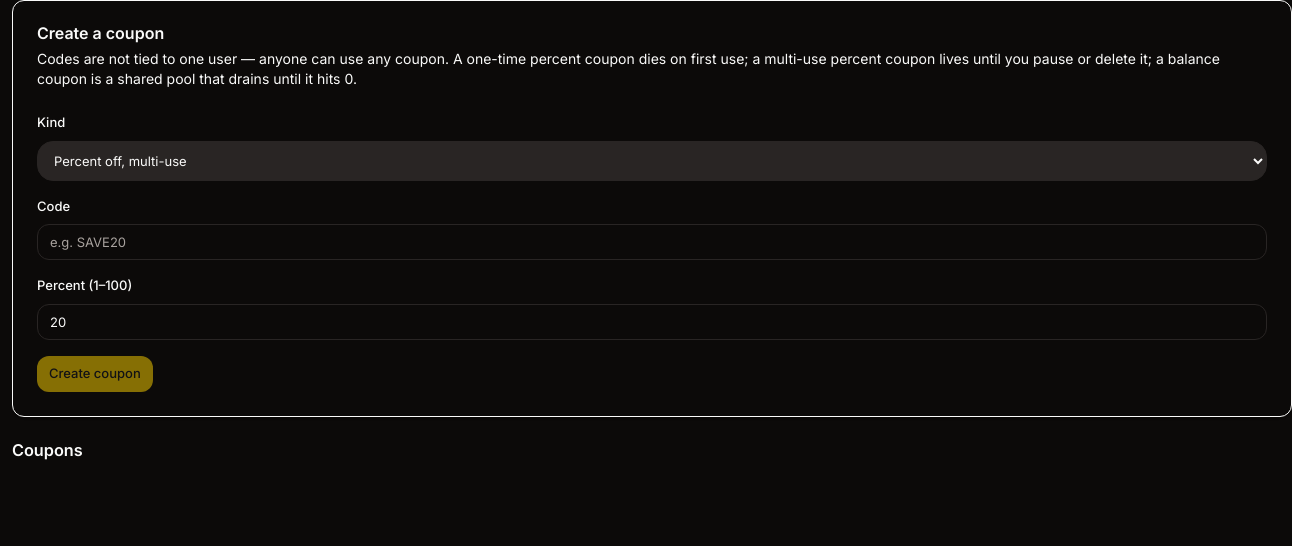
Test: AdminCouponsView coupon code input › uppercases a lowercase code as it is typed and submits it uppercase
This screenshot has width=1292, height=546.
expect the text "Create a coupon" is shown: met, box [37,23,164,43]
Step 1. Type "save20" into the field labelled "Code" → [652, 242], box [37,224,1267,260]
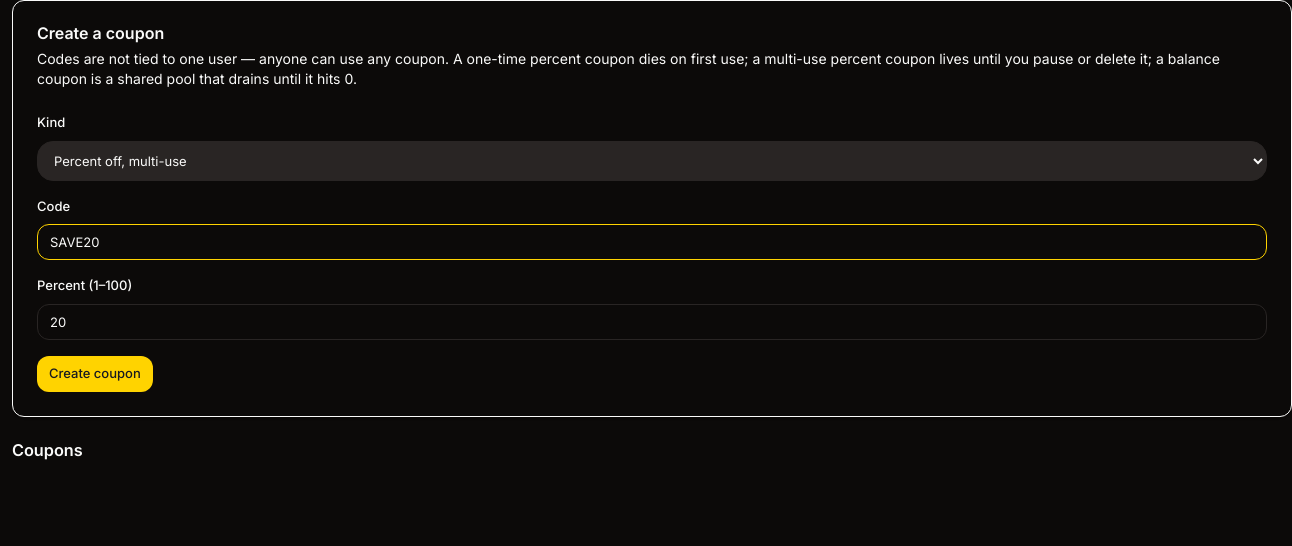
Step 2. Click the button "Create coupon" → [95, 374], box [37,356,153,392]
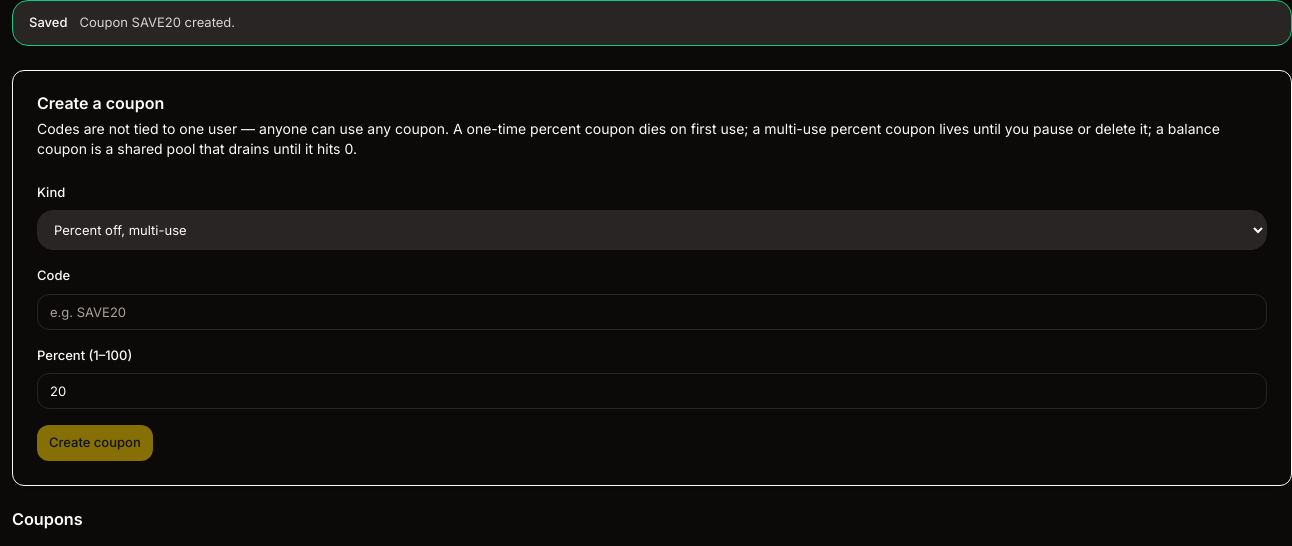
expect the text "Coupon SAVE20 created." is shown: met, box [80,13,235,32]
